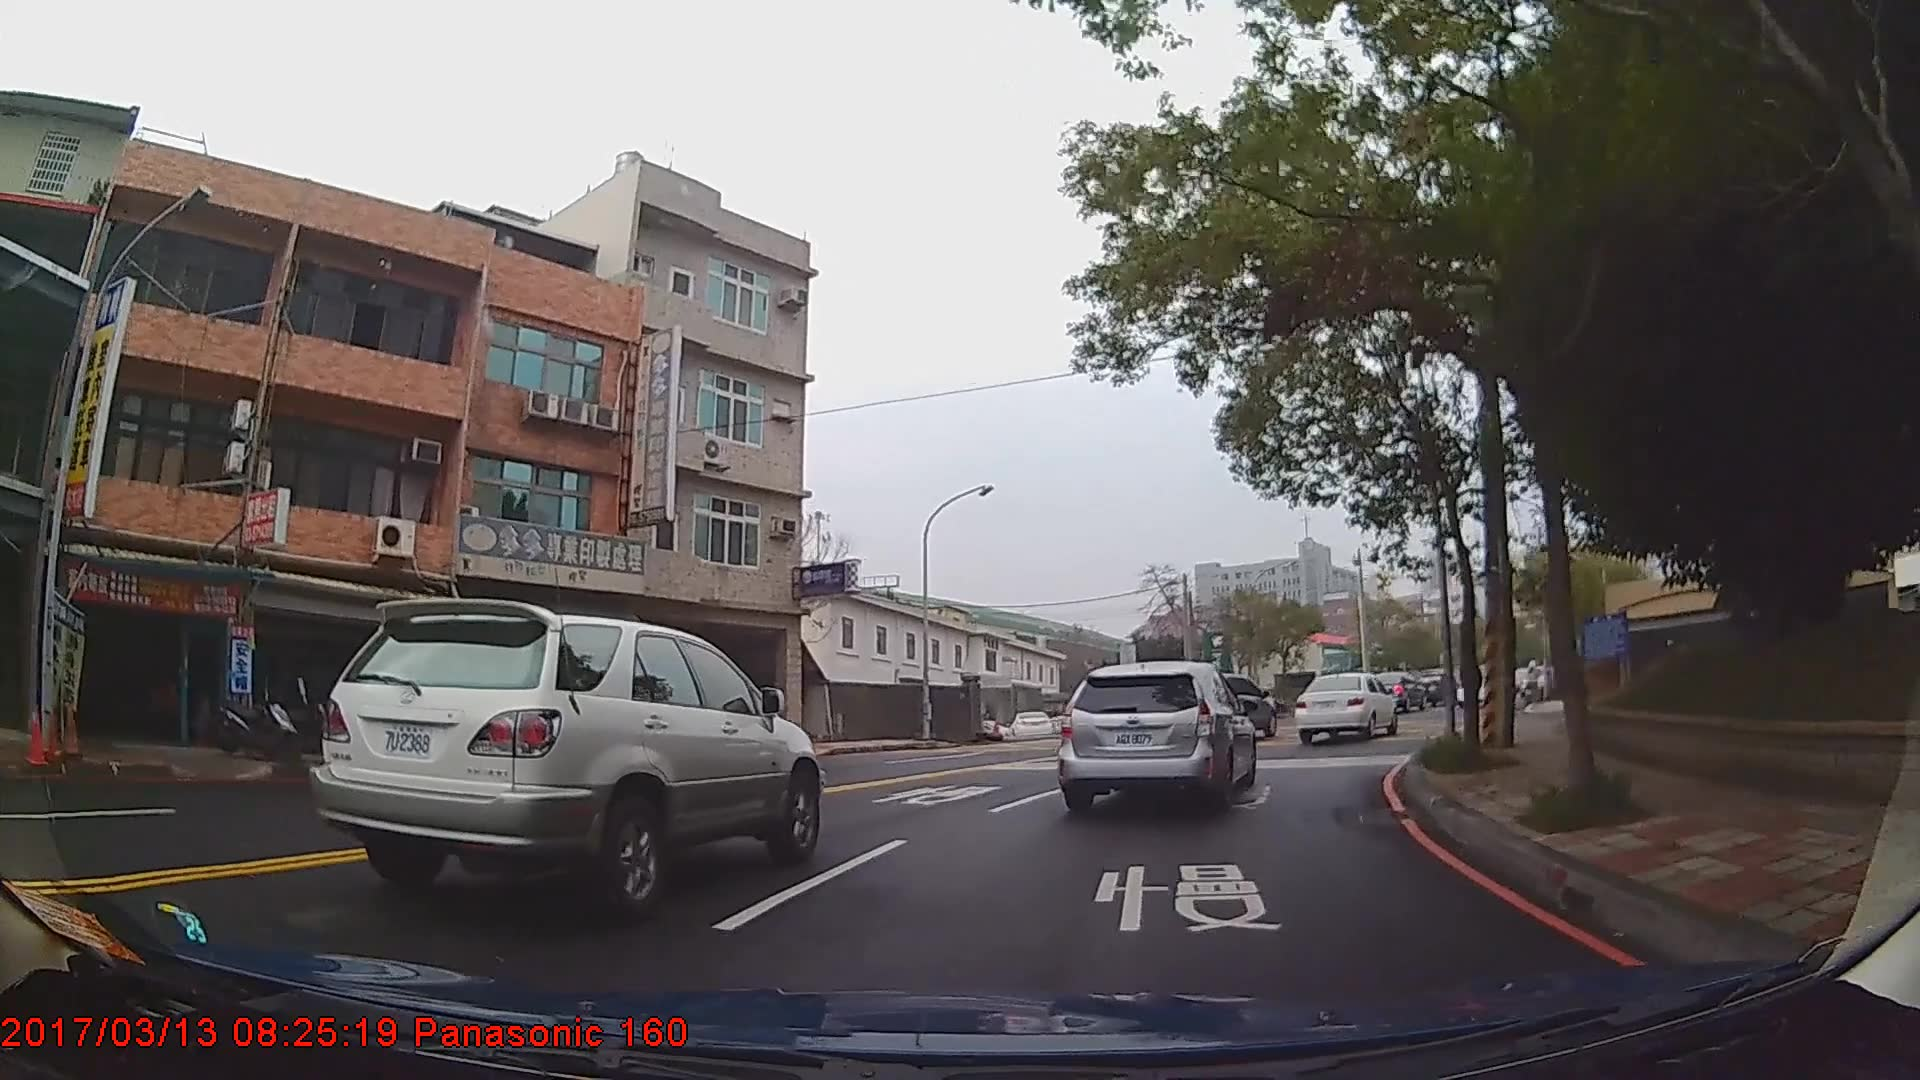vehicle: (306, 593, 824, 920), (1052, 658, 1253, 810), (1292, 670, 1399, 742), (1187, 673, 1276, 741), (1007, 707, 1054, 736)
